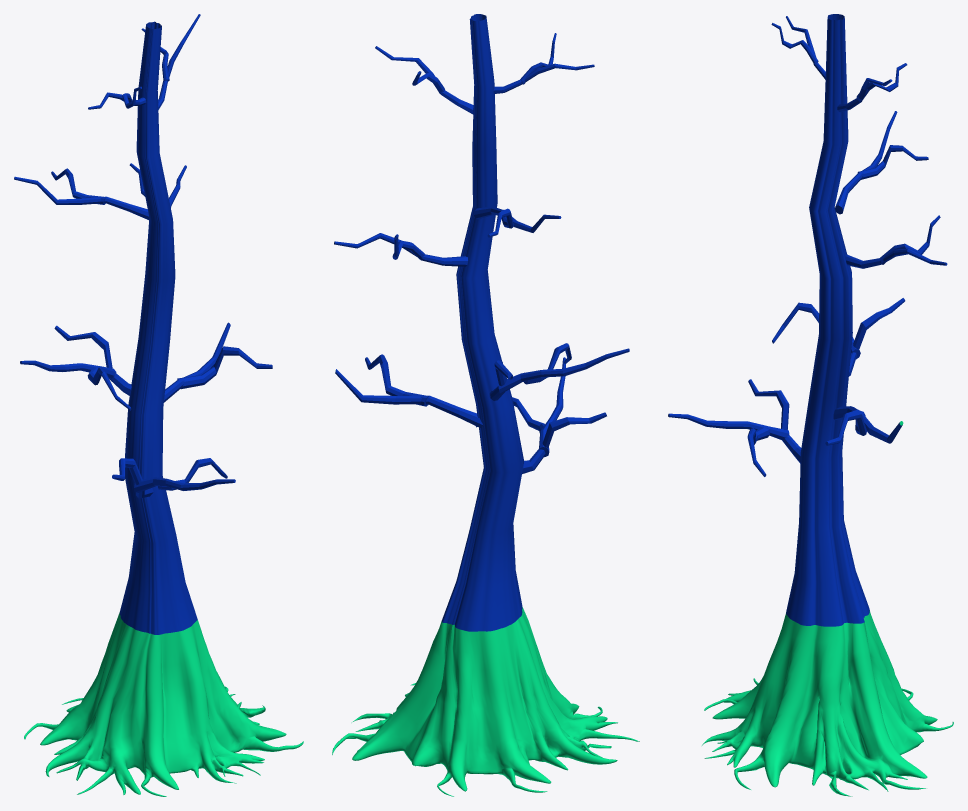
File: SM_E_CypressTree_Corrupted_Medium_01.fbx
3 views of the same model, side by side, from view 1: azimuth 30°, elevation 25°; view 2: azimuth 150°, elevation 25°; view 3: azimuth 270°, elevation 25° (orthographic). The views are drawn at different scales.
Visible parts, largest first — view 1: SM_E_CypressTree_Corrupted_Medium_01; view 2: SM_E_CypressTree_Corrupted_Medium_01; view 3: SM_E_CypressTree_Corrupted_Medium_01.
Boxes of the visible parts, x1=… form: SM_E_CypressTree_Corrupted_Medium_01: x1=14, y1=14, x2=303, y2=796; SM_E_CypressTree_Corrupted_Medium_01: x1=332, y1=14, x2=639, y2=796; SM_E_CypressTree_Corrupted_Medium_01: x1=668, y1=14, x2=953, y2=796.
Bounding box in the file's own units: 424 × 1126 × 403.
